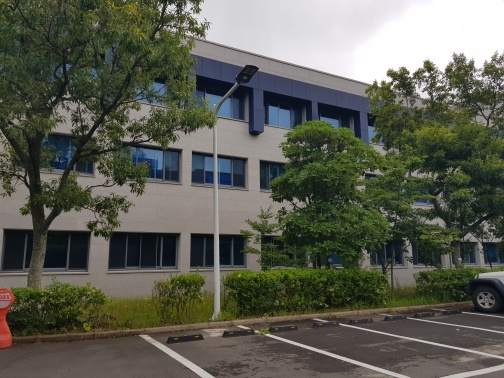College of Social Sciences: (36, 37, 486, 289)
